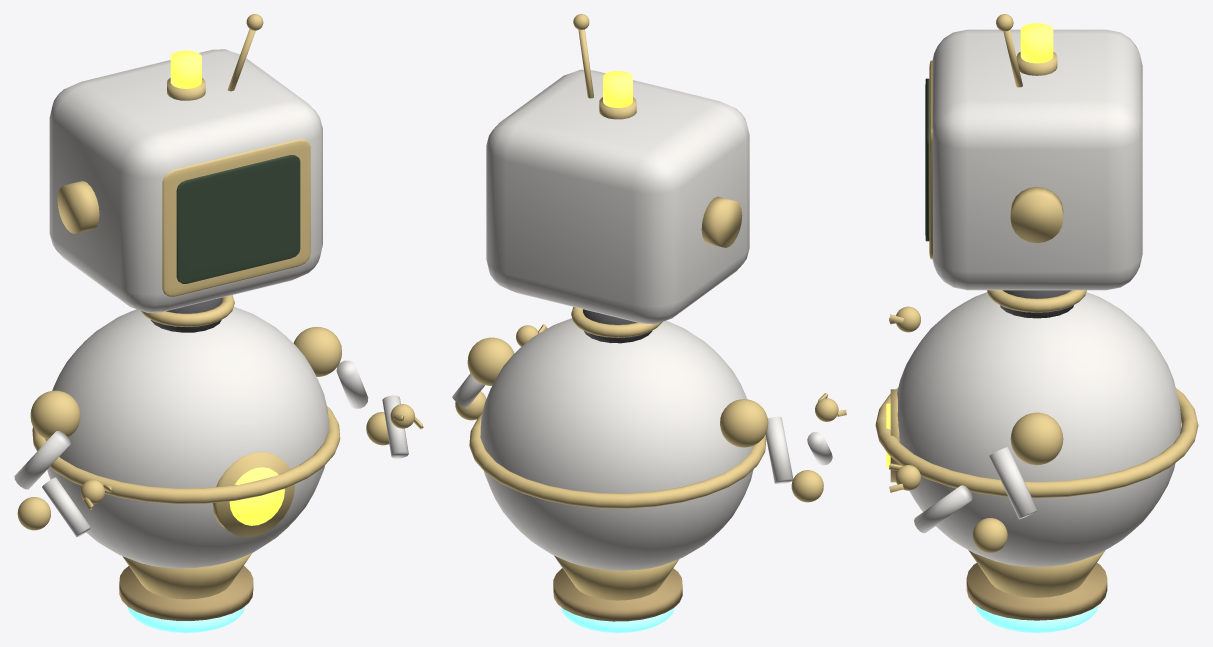
The model's file is glimmer_hoverbot.glb.
3 views of the same model, side by side, from view 1: azimuth 30°, elevation 25°; view 2: azimuth 150°, elevation 25°; view 3: azimuth 270°, elevation 25° (orthographic). The views are drawn at different scales.
Visible parts, largest first — view 1: Glimmer_Torso, CRT_Head_Casing, CRT_Screen_Face, CRT_Bezel, Torso_Belt, Cylinder.002, Cone, Cylinder, Sphere.001, Head_Ear_Left, Cylinder.001, Sphere.004 (+10 smaller); view 2: CRT_Head_Casing, Glimmer_Torso, Torso_Belt, Cylinder.002, Cone, Sphere.001, Head_Ear_Left, Sphere.004, Cylinder.007, Torus.001, Torus.002, Cylinder.005 (+4 smaller); view 3: Glimmer_Torso, CRT_Head_Casing, Torso_Belt, Cylinder.002, Cone, Head_Ear_Right, Sphere.004, Cylinder.009, Torus.002, Torus.001, Cylinder.005, Cylinder.010 (+8 smaller).
Part boxes in pixels (x1,y1,x2,y2): Glimmer_Torso: (45, 307, 328, 568); CRT_Head_Casing: (49, 49, 322, 312); CRT_Screen_Face: (176, 155, 300, 283); CRT_Bezel: (162, 139, 310, 296); Torso_Belt: (32, 406, 340, 503); Cylinder.002: (119, 566, 253, 620); Cone: (122, 553, 251, 599); Cylinder: (212, 451, 294, 537); Sphere.001: (30, 390, 80, 439); Head_Ear_Left: (57, 181, 99, 233); Cylinder.001: (229, 467, 284, 525); Sphere.004: (293, 327, 341, 376); CRT_Head_Casing: (486, 69, 749, 324); Glimmer_Torso: (480, 318, 753, 570); Torso_Belt: (469, 414, 766, 508); Cylinder.002: (553, 568, 682, 621); Cone: (554, 555, 679, 600); Sphere.001: (720, 399, 768, 447); Head_Ear_Left: (701, 196, 742, 247); Sphere.004: (467, 337, 514, 385); Cylinder.007: (765, 416, 793, 484); Torus.001: (561, 607, 674, 632); Torus.002: (571, 307, 662, 337); Cylinder.005: (603, 71, 632, 107); Glimmer_Torso: (897, 292, 1181, 567); CRT_Head_Casing: (932, 29, 1142, 290); Torso_Belt: (875, 388, 1198, 498); Cylinder.002: (966, 563, 1107, 620); Cone: (968, 550, 1105, 597); Head_Ear_Right: (1010, 187, 1063, 242); Sphere.004: (1010, 412, 1063, 465); Cylinder.009: (989, 447, 1037, 519); Torus.002: (987, 290, 1086, 312); Torus.001: (975, 605, 1098, 632); Cylinder.005: (1020, 23, 1053, 63); Cylinder.010: (914, 485, 972, 533).
Bounding box in the file's own units: 0.78 × 1.17 × 0.552.
